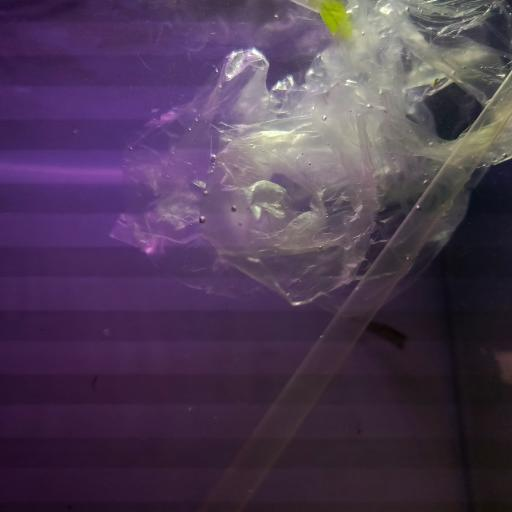plastic_bag: (118, 0, 512, 306)
plastic_straw: (198, 68, 512, 512)
